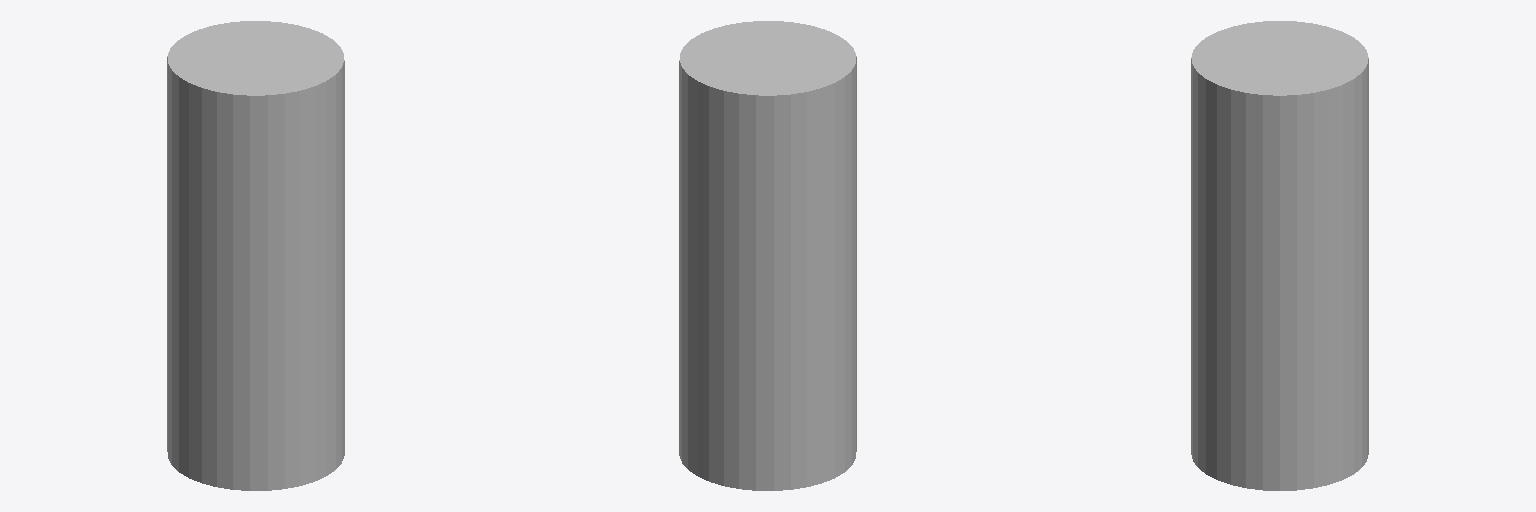
File: metalPipe.obj
The picture shows the model from 3 angles: view 1: azimuth 30°, elevation 25°; view 2: azimuth 150°, elevation 25°; view 3: azimuth 270°, elevation 25°; orthographic projection.
Parts seen in each view (by area): view 1: Cylinder; view 2: Cylinder; view 3: Cylinder.
Boxes of the visible parts, box(x1,y1,x2,y2) form: Cylinder: box(167, 21, 344, 490); Cylinder: box(679, 21, 856, 490); Cylinder: box(1191, 21, 1368, 490).
Bounding box in the file's own units: 2 × 4.92 × 2.